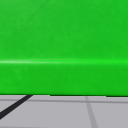green_basket: (1, 1, 127, 97)
